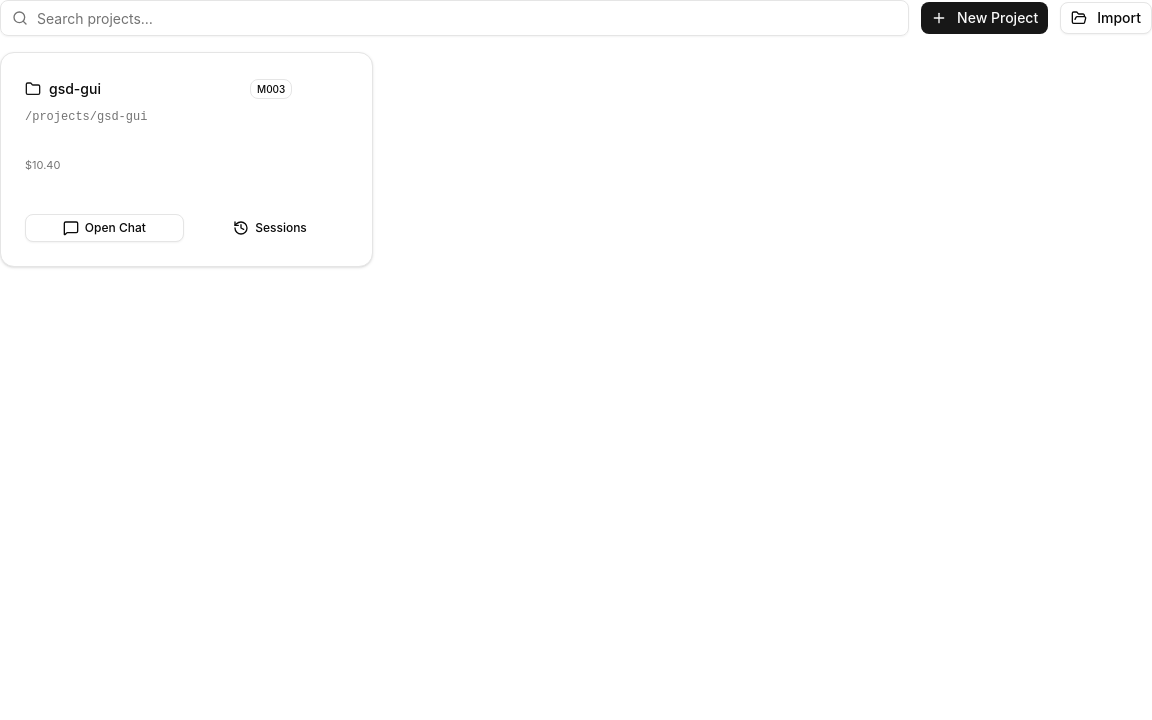
ProjectGallery › Import of a non-GSD project opens wizard pre-filled with detected metadata
The width and height of the screenshot is (1152, 720).
Click the button "Import" at (1106, 18), box [1060, 2, 1151, 34]
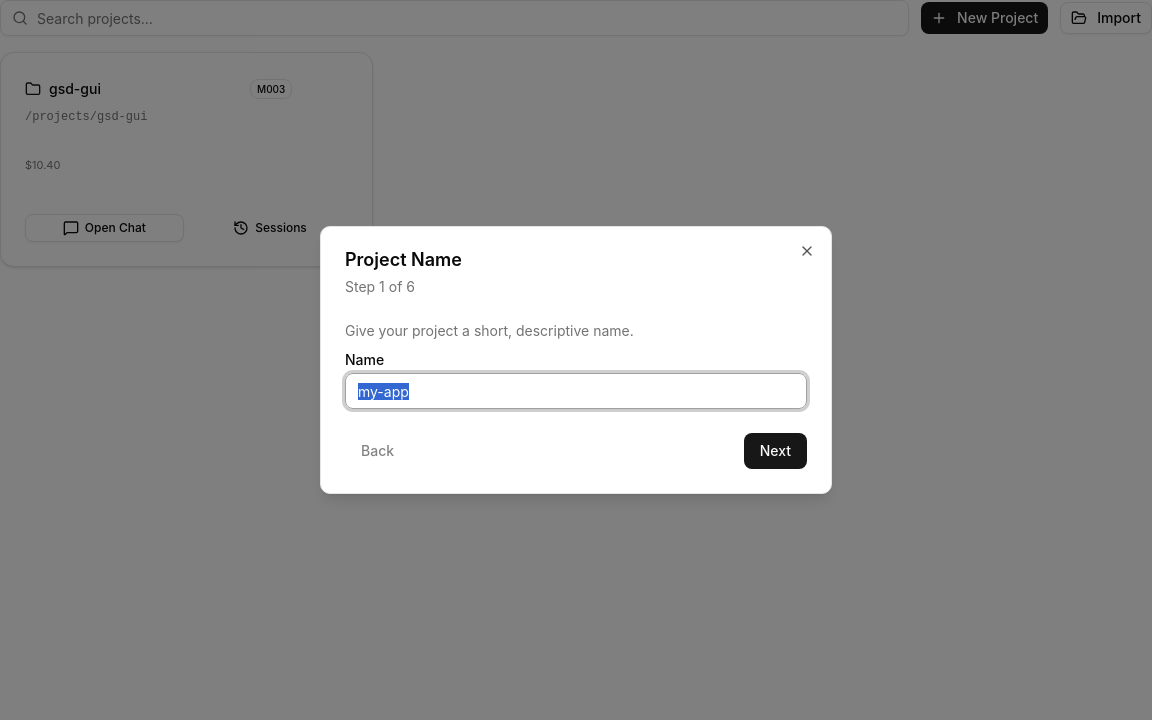
Result: the heading "Project Name" is shown at [345, 249, 462, 270]
Result: the field labelled "Name" holds "my-app" at [345, 373, 807, 409]
